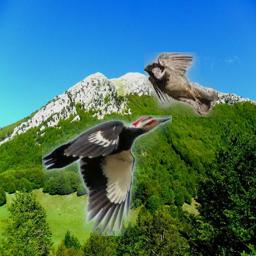Sparrow: (144, 52, 217, 117)
Woodpecker: (42, 115, 172, 236)
